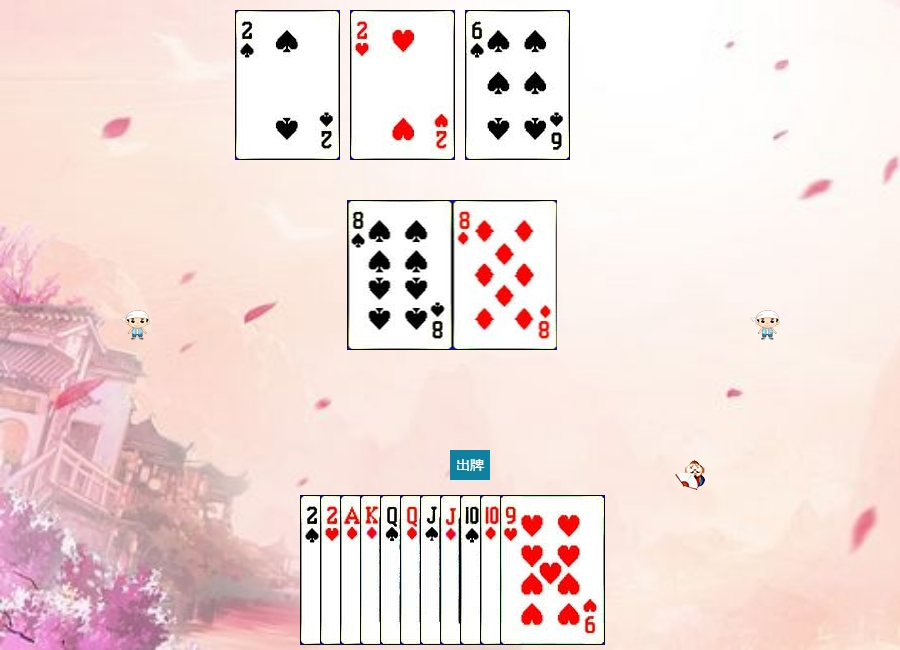10~1: (480, 495, 585, 645)
10~4: (460, 495, 565, 645)
11~1: (440, 495, 545, 645)
11~4: (420, 495, 525, 645)
12~1: (400, 495, 505, 645)
12~4: (380, 495, 485, 645)
13~1: (360, 495, 465, 645)
14~1: (340, 495, 445, 645)
15~3: (350, 10, 455, 160), (320, 495, 425, 645)
15~4: (235, 10, 340, 160), (300, 495, 405, 645)
6~4: (465, 10, 570, 160)
8~1: (453, 200, 558, 350)
8~4: (348, 200, 453, 350)
9~3: (500, 495, 605, 645)
